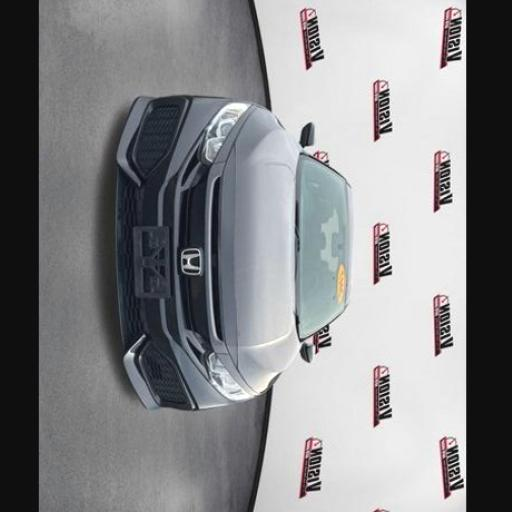hatchback: (117, 98, 351, 411)
